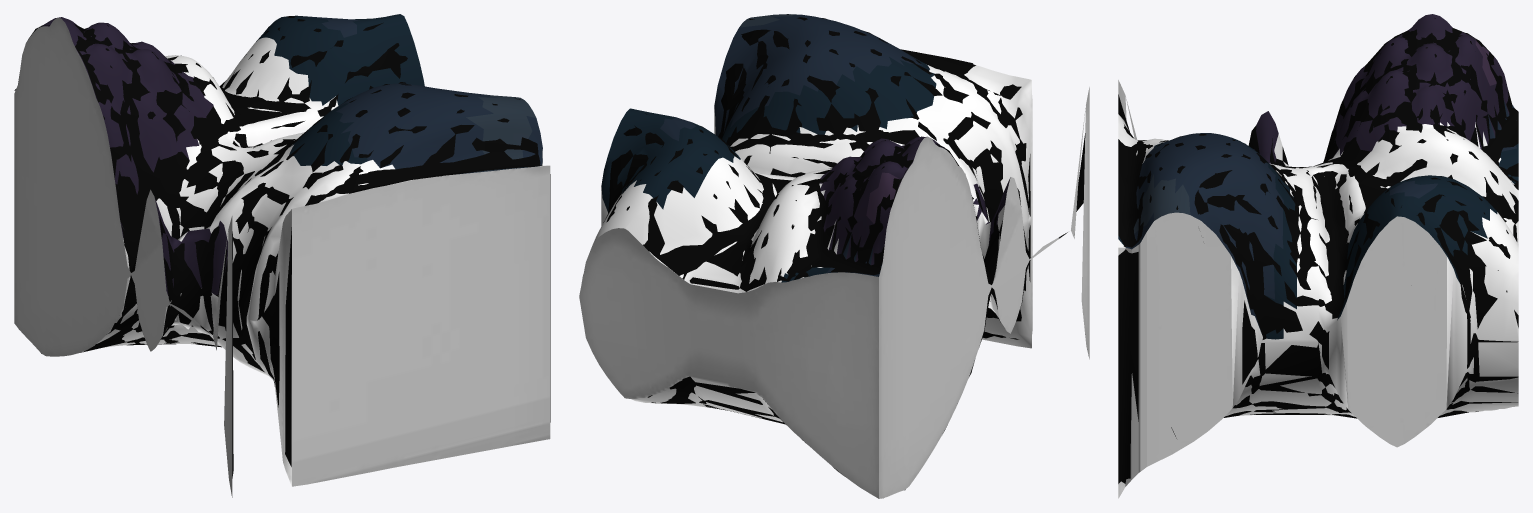
The model's file is newshn-45.glb.
The picture shows the model from 3 angles, left to right: view 1: azimuth 30°, elevation 25°; view 2: azimuth 150°, elevation 25°; view 3: azimuth 270°, elevation 25°; orthographic projection. The views are drawn at different scales.
Visible parts, largest first — view 1: newshn-45, newshn-45_outline; view 2: newshn-45, newshn-45_outline; view 3: newshn-45, newshn-45_outline.
Boxes of the visible parts, box(x1,y1,x2,y2) form: newshn-45: box(14, 14, 550, 497); newshn-45_outline: box(14, 16, 550, 478); newshn-45: box(579, 14, 1089, 498); newshn-45_outline: box(582, 14, 1085, 498); newshn-45: box(1118, 14, 1518, 498); newshn-45_outline: box(1118, 18, 1518, 483).
Size of the model in its own units: 2 by 2.2 by 2.33.
13 materials, 12 textured.
